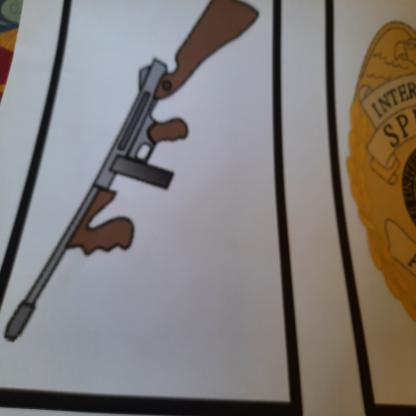Bootlegger: (5, 2, 269, 382)
